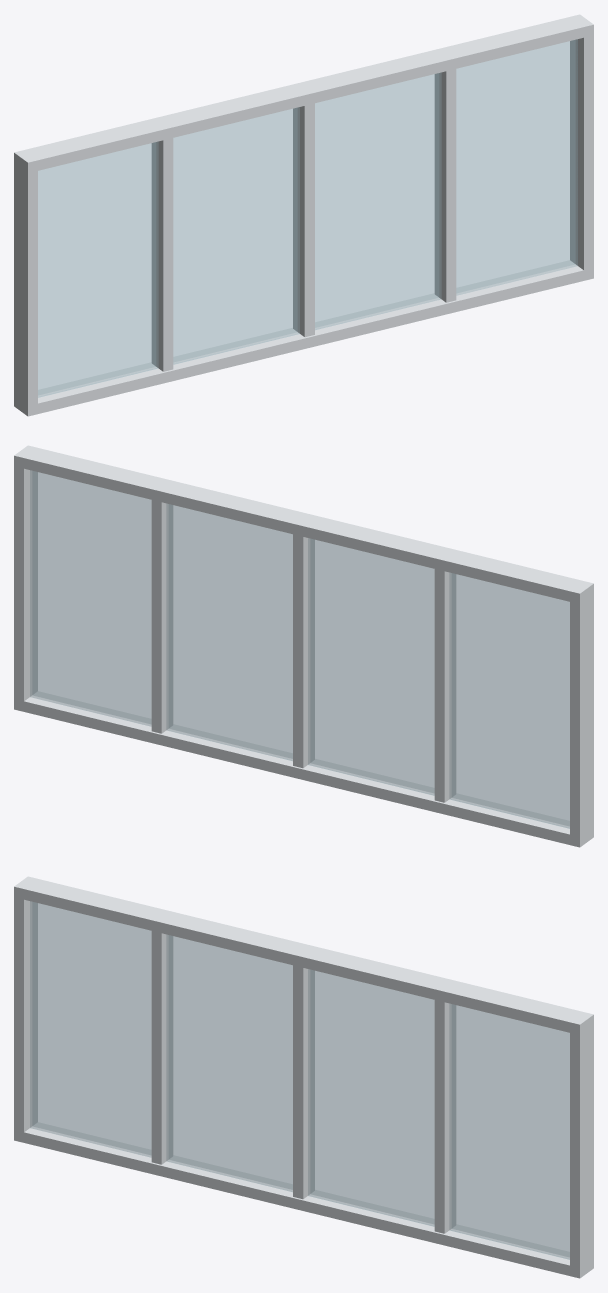
The picture shows the model from 3 angles, top to bottom: view 1: azimuth 30°, elevation 25°; view 2: azimuth 150°, elevation 25°; view 3: azimuth 330°, elevation 25°; orthographic projection.
Visible parts, largest first — view 1: glass, frame (×7); view 2: glass, frame (×7); view 3: glass, frame (×7).
Boxes of the visible parts, box(x1,y1,x2,y2) form: glass: box(38, 39, 577, 397); frame (×7): box(14, 14, 593, 416); glass: box(30, 470, 569, 828); frame (×7): box(14, 445, 593, 847); glass: box(30, 901, 569, 1259); frame (×7): box(14, 876, 593, 1278).
Bounding box in the file's own units: 2.8 × 1.2 × 0.12.
